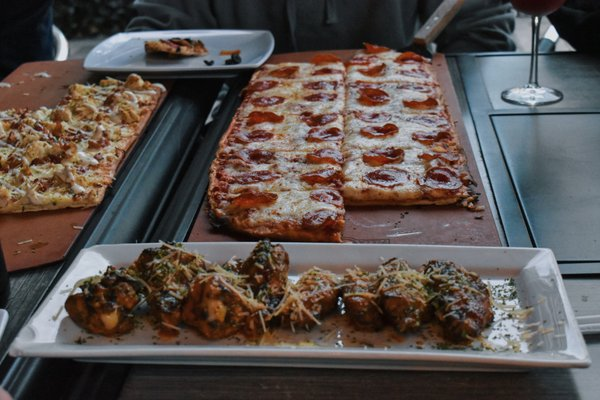sandwich: (2, 237, 549, 347), (208, 45, 479, 241), (0, 73, 166, 214), (502, 1, 564, 106), (144, 36, 209, 56)
